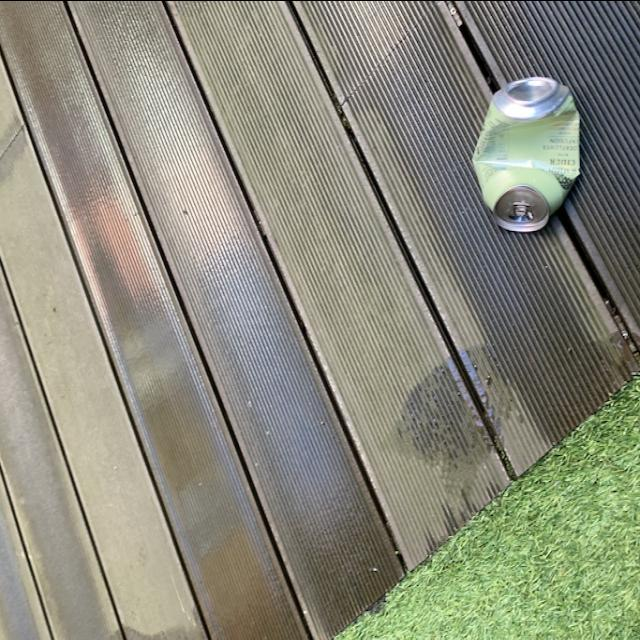litter: (468, 62, 590, 242)
